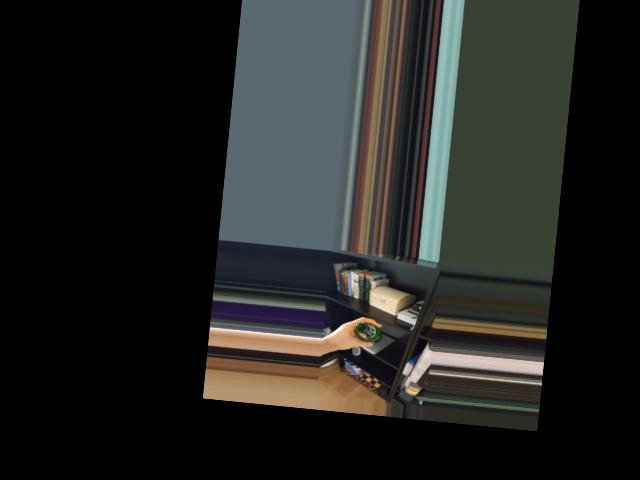beer: (353, 322, 382, 344)
